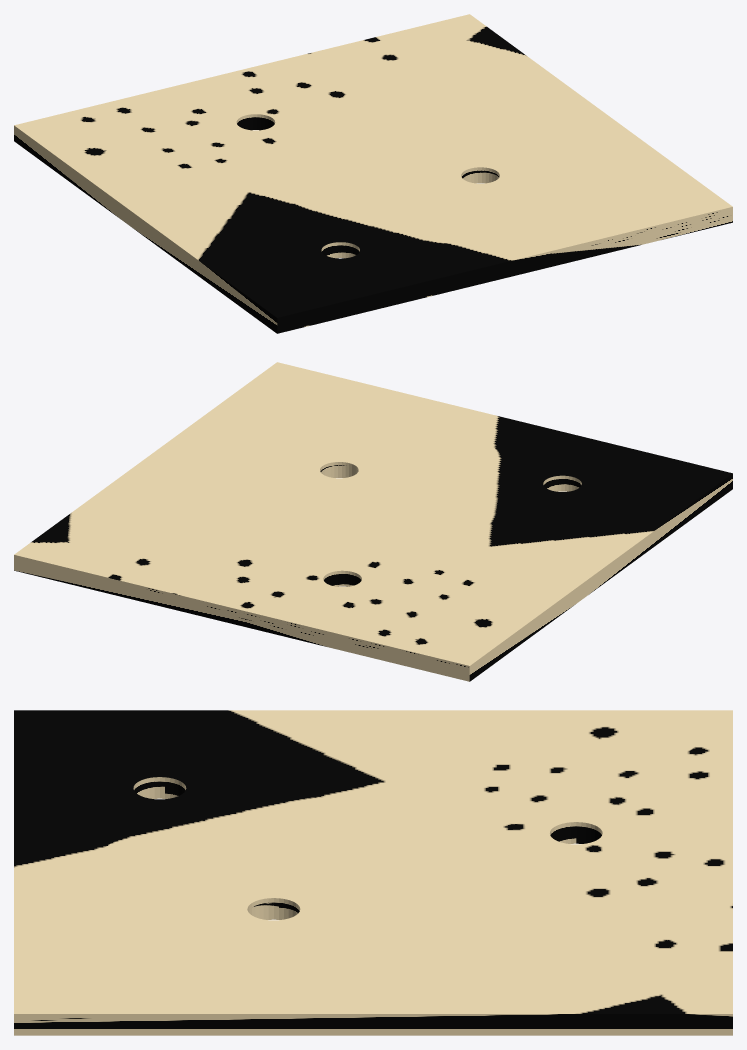
File: board.dae
The picture shows the model from 3 angles, top to bottom: view 1: azimuth 30°, elevation 25°; view 2: azimuth 150°, elevation 25°; view 3: azimuth 270°, elevation 25°; orthographic projection. The views are drawn at different scales.
Parts seen in each view (by area): view 1: board; view 2: board; view 3: board.
Part boxes in pixels (x1,y1,x2,y2): board: (14, 14, 732, 333); board: (14, 362, 732, 681); board: (14, 710, 732, 1035).
Bounding box in the file's own units: 7.48 × 0.2489 × 7.48.
1 material, 1 textured.
